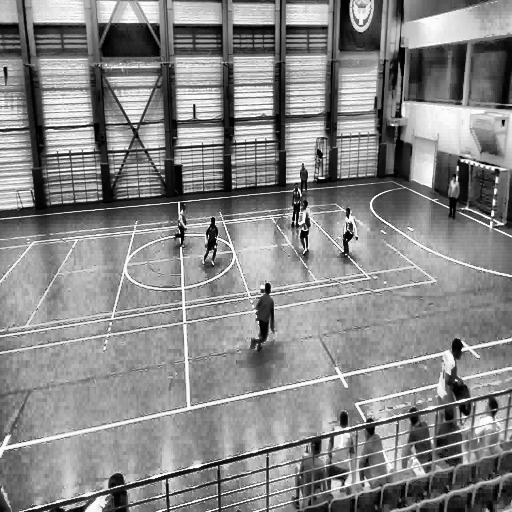ball: (258, 282, 266, 296)
player: (252, 280, 274, 352), (202, 217, 219, 266), (341, 206, 357, 258), (298, 200, 312, 256), (447, 172, 459, 220), (175, 202, 187, 250), (291, 180, 302, 229), (299, 162, 308, 199)
